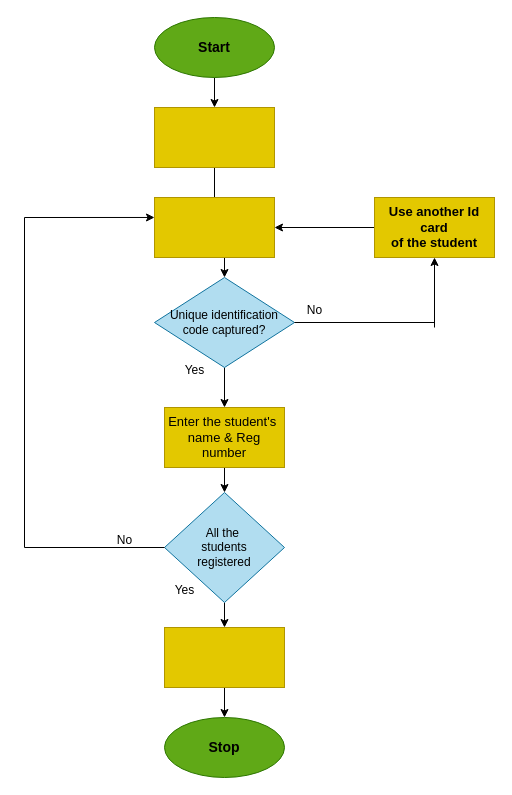
The diagram is 512 pixels wide and 795 high, and some of its shapes have lost their labels. The centre of each missing label's shape, as x and y in pixels:
Activate registration form: (x=214, y=137)
Save the data in the database: (x=224, y=657)
Swipe a student's ID card: (x=214, y=227)
